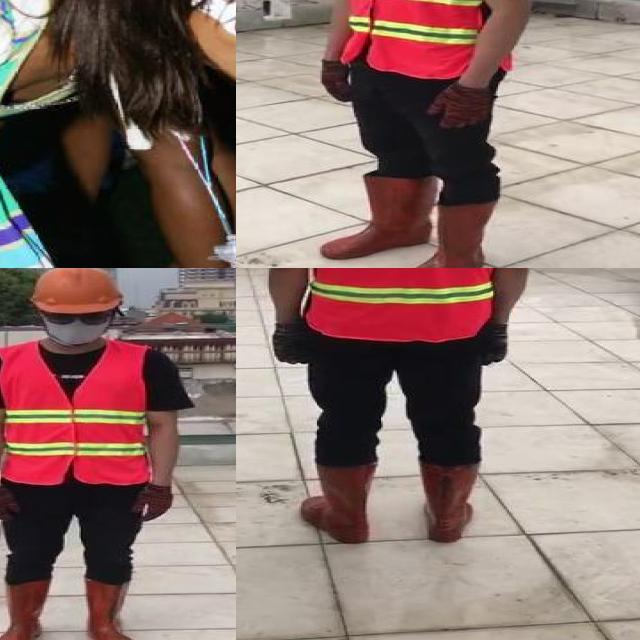boots: (320, 175, 434, 261), (298, 463, 376, 545), (400, 204, 498, 268), (416, 460, 481, 544), (81, 576, 136, 640), (0, 580, 47, 640)
face_mask: (43, 304, 112, 344)
glasses: (38, 306, 110, 328)
hand_glove: (421, 83, 491, 128), (269, 319, 308, 366), (129, 484, 175, 523), (318, 58, 352, 104), (484, 324, 511, 364), (0, 486, 24, 521)
head_helmet: (30, 268, 126, 315)
person: (255, 268, 549, 551), (0, 268, 181, 640), (305, 0, 550, 268), (0, 0, 236, 268)
vest: (1, 341, 152, 486), (306, 268, 521, 341), (345, 0, 515, 78)
